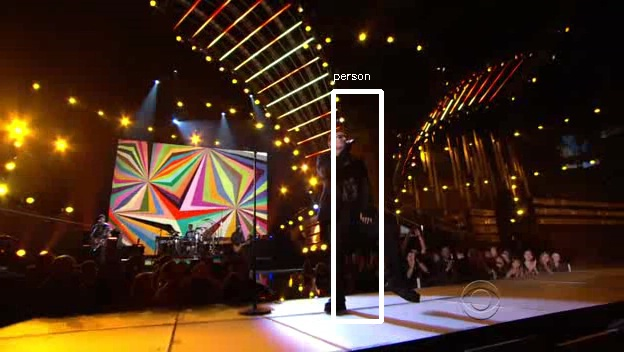person: (314, 131, 383, 250), (311, 131, 380, 250), (317, 131, 386, 250), (314, 128, 383, 247), (314, 134, 383, 253)
target_negative: (79, 216, 520, 303), (239, 230, 501, 285), (565, 182, 609, 255), (237, 210, 543, 218), (391, 275, 440, 300), (536, 199, 546, 255)
